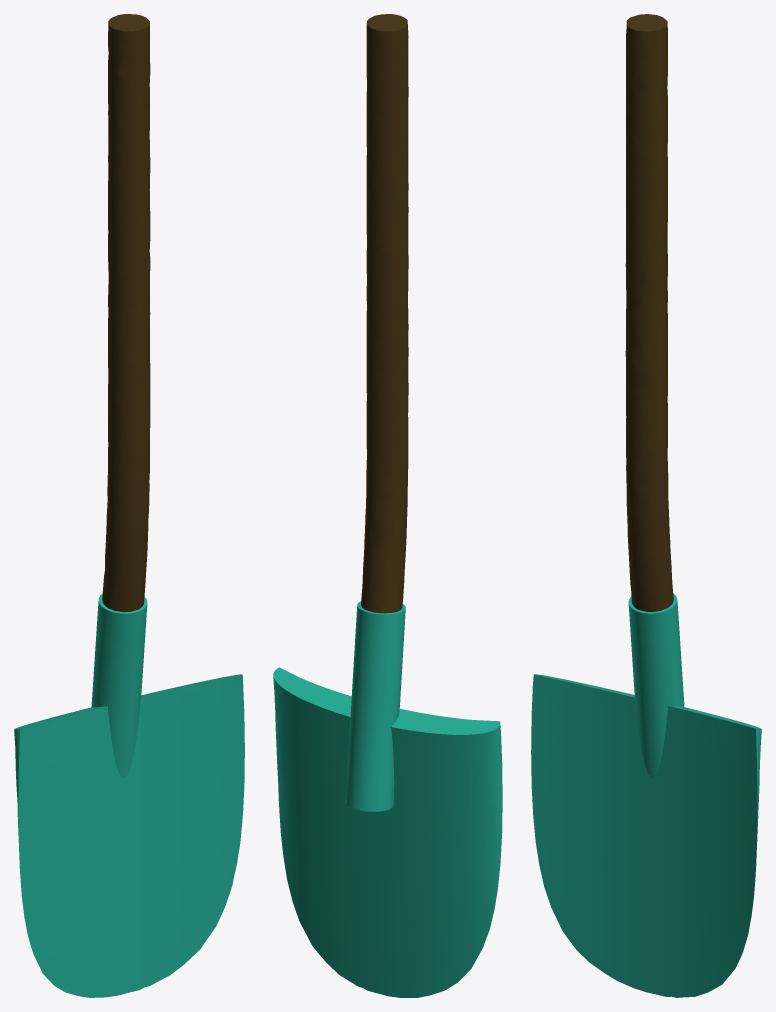
The model's file is Shovel2.fbx.
3 views of the same model, side by side, from view 1: azimuth 30°, elevation 25°; view 2: azimuth 150°, elevation 25°; view 3: azimuth 330°, elevation 25° (orthographic).
Parts seen in each view (by area): view 1: Cylinder_3; view 2: Cylinder_3; view 3: Cylinder_3.
Part boxes in pixels (left/top/right/bottom): Cylinder_3: left=14, top=14, right=244, bottom=997; Cylinder_3: left=273, top=14, right=502, bottom=997; Cylinder_3: left=531, top=14, right=761, bottom=997.
Size of the model in its own units: 23.63 by 97.16 by 7.36.
